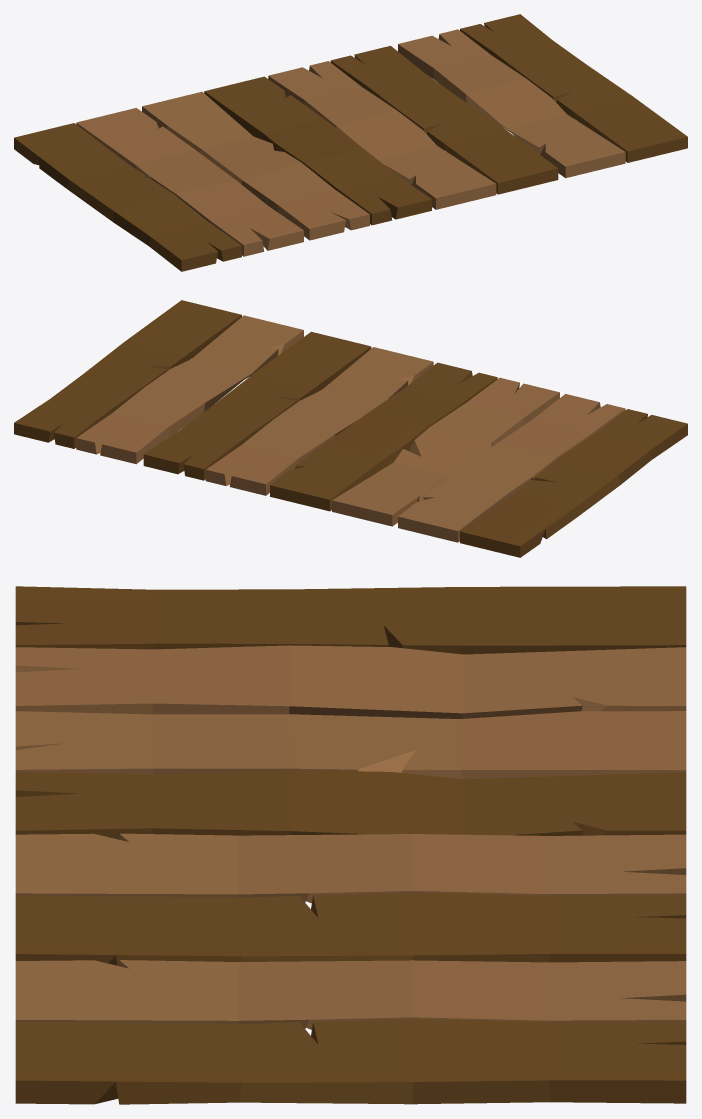
File: Planches.fbx
The picture shows the model from 3 angles, top to bottom: view 1: azimuth 30°, elevation 25°; view 2: azimuth 150°, elevation 25°; view 3: azimuth 270°, elevation 25°; orthographic projection. The views are drawn at different scales.
Visible parts, largest first — view 1: Planches; view 2: Planches; view 3: Planches.
Part boxes in pixels (x1,y1,x2,y2): Planches: [14, 14, 687, 271]; Planches: [14, 300, 687, 557]; Planches: [15, 586, 686, 1104].
Bounding box in the file's own units: 353 × 9.02 × 200.
